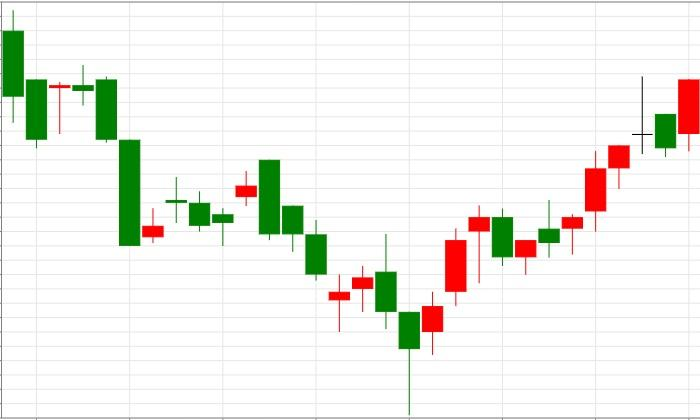bearish_engulfing_fall: (142, 159, 280, 246)
three_white_soldiers_rise: (258, 159, 490, 415)
